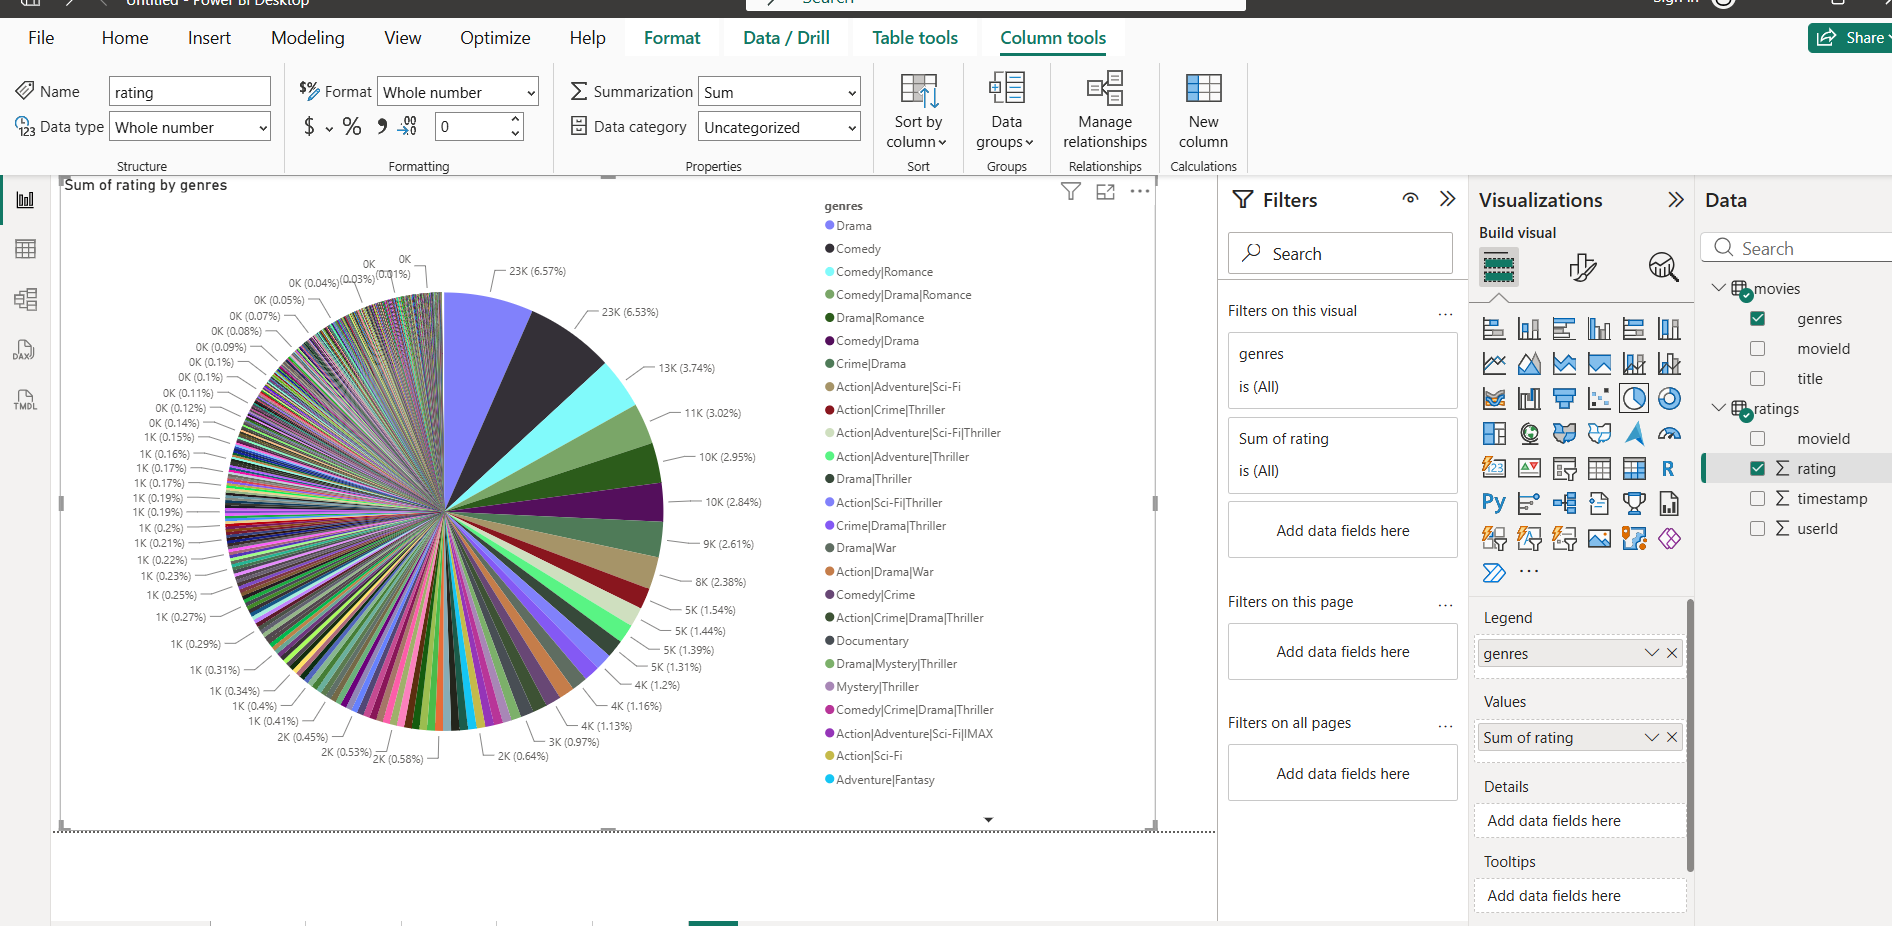

This screenshot's page, from the dashboard's own definition file:
{"tool":"powerbi","page":{"name":"Page 5","canvas":[1280,720],"ordinal":4},"visuals":[{"type":"pieChart","fields":{"Category":["movies.genres"],"Y":["Sum(ratings.rating)1"]},"box":[9.6,0,1221.3,720.4],"z":0}]}

Visuals, with their boxes on the page's 1280x720 design canvas (x1, y1, x2, y2). These are canvas units, not pixel positions in the 1892x926 screenshot, which may show the page scaled, cropped or inside an application window:
pieChart - movies.genres x Sum(ratings.rating)1: bbox=(10, 0, 1231, 720)
